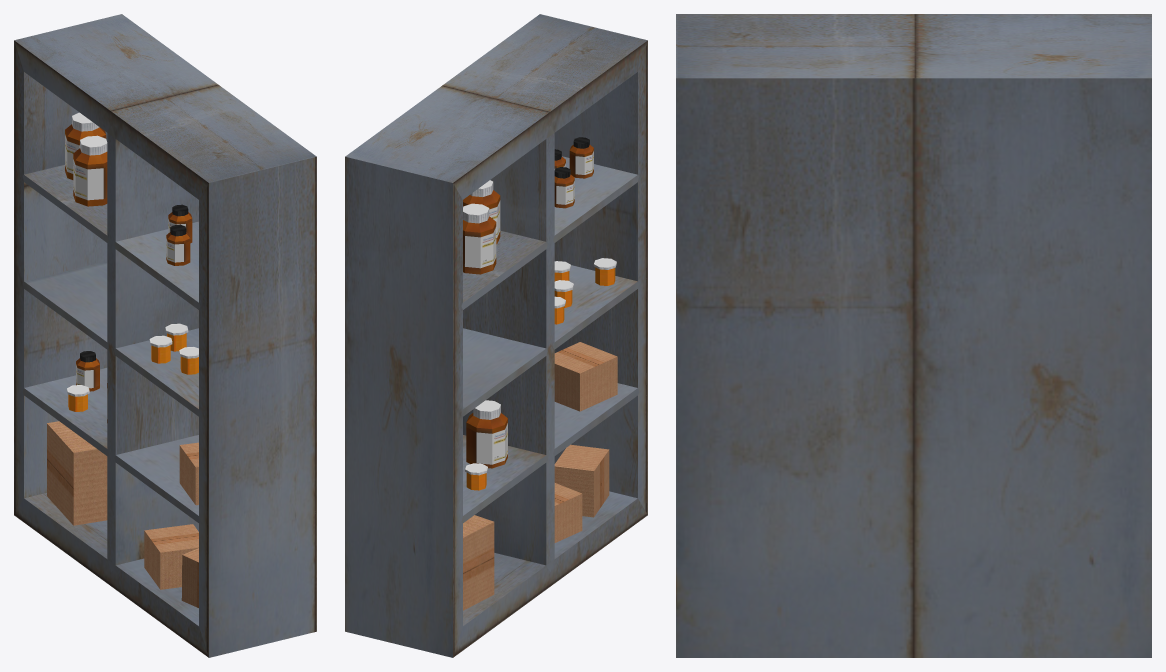
File: CabinetD.fbx
3 views of the same model, side by side, from view 1: azimuth 30°, elevation 25°; view 2: azimuth 150°, elevation 25°; view 3: azimuth 270°, elevation 25° (orthographic). The views are drawn at different scales.
Parts seen in each view (by area): view 1: medicine cabinet, Cardboard, Cardboard.002, PillBottle.002, PillBottle, Cardboard.001, PillBottle.005, Cardboard.003, PillBottle.007, Pill.004, PillBottle.004, Pill.005 (+2 smaller); view 2: medicine cabinet, Cardboard.001, Cardboard.003, Cardboard, PillBottle.009, PillBottle.002, Cardboard.002, PillBottle.001, PillBottle.003, PillBottle.005, Pill.001, Pill.005; view 3: medicine cabinet.
Part boxes in pixels (box(x1,y1,x2,y2)): medicine cabinet: box(14, 14, 316, 657); Cardboard: box(47, 421, 107, 525); Cardboard.002: box(144, 524, 198, 589); PillBottle.002: box(73, 135, 107, 206); PillBottle: box(65, 112, 106, 179); Cardboard.001: box(179, 442, 198, 505); PillBottle.005: box(166, 224, 190, 265); Cardboard.003: box(181, 548, 198, 607); PillBottle.007: box(76, 351, 99, 391); Pill.004: box(149, 335, 172, 363); PillBottle.004: box(168, 204, 192, 243); Pill.005: box(67, 385, 89, 411); medicine cabinet: box(345, 14, 647, 657); Cardboard.001: box(554, 342, 617, 411); Cardboard.003: box(554, 444, 609, 517); Cardboard: box(463, 515, 494, 610); PillBottle.009: box(466, 400, 507, 468); PillBottle.002: box(463, 203, 496, 274); Cardboard.002: box(554, 483, 582, 542); PillBottle.001: box(569, 137, 593, 178); PillBottle.003: box(463, 180, 500, 244); PillBottle.005: box(554, 167, 574, 208); Pill.001: box(593, 258, 616, 285); Pill.005: box(465, 463, 487, 490); medicine cabinet: box(676, 14, 1151, 657).
Bounding box in the file's own units: 187 × 786 × 585.
4 materials, 4 textured.
